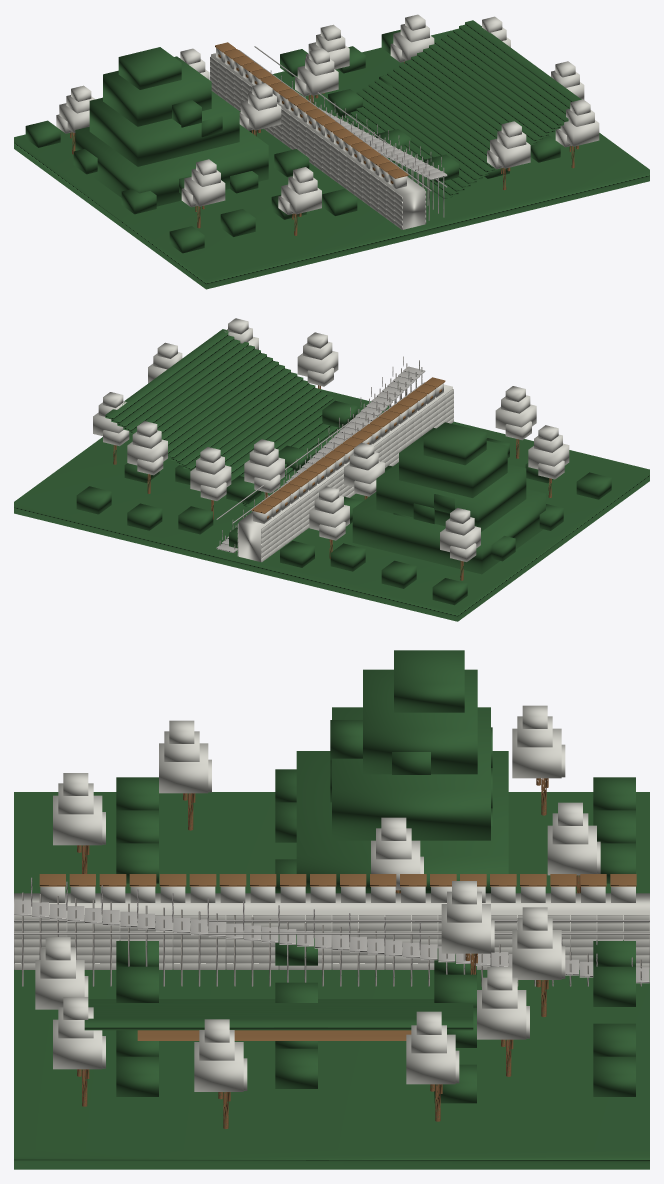
The picture shows the model from 3 angles, top to bottom: view 1: azimuth 30°, elevation 25°; view 2: azimuth 150°, elevation 25°; view 3: azimuth 270°, elevation 25°; orthographic projection. The views are drawn at different scales.
Parts seen in each view (by area): view 1: inwangsan_granite_ridge, inwangsan_pines_and_flora, inwangsan_city_wall, inwangsan_trail_deck; view 2: inwangsan_granite_ridge, inwangsan_pines_and_flora, inwangsan_city_wall, inwangsan_trail_deck; view 3: inwangsan_granite_ridge, inwangsan_pines_and_flora, inwangsan_city_wall, inwangsan_trail_deck.
Boxes of the visible parts, x1,y1,x2,y2 form: inwangsan_granite_ridge: (14,20,649,289); inwangsan_pines_and_flora: (56,14,599,235); inwangsan_city_wall: (210,42,426,229); inwangsan_trail_deck: (239,46,447,220); inwangsan_granite_ridge: (14,329,649,621); inwangsan_pines_and_flora: (93,318,569,580); inwangsan_city_wall: (237,377,453,562); inwangsan_trail_deck: (216,356,425,552); inwangsan_granite_ridge: (14,650,649,1169); inwangsan_pines_and_flora: (35,705,600,1128); inwangsan_city_wall: (14,874,649,969); inwangsan_trail_deck: (14,877,649,986).
Bounding box in the file's own units: 48 × 12.5 × 36.
4 materials, 4 textured.
